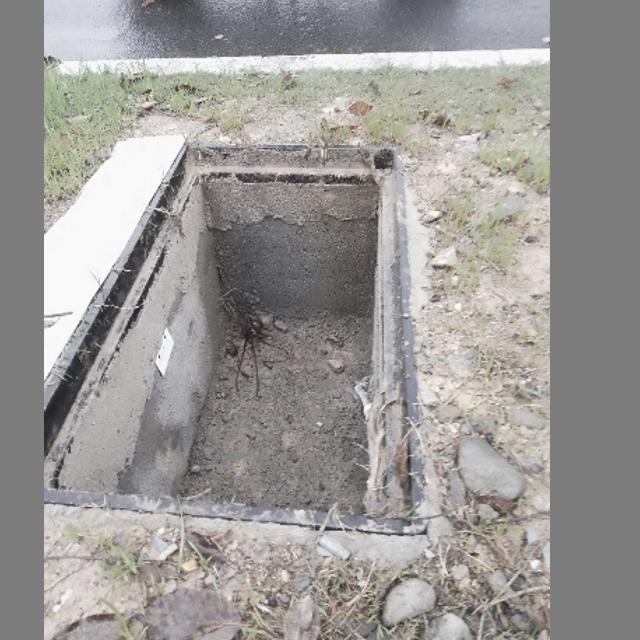lose: (44, 128, 419, 518)
